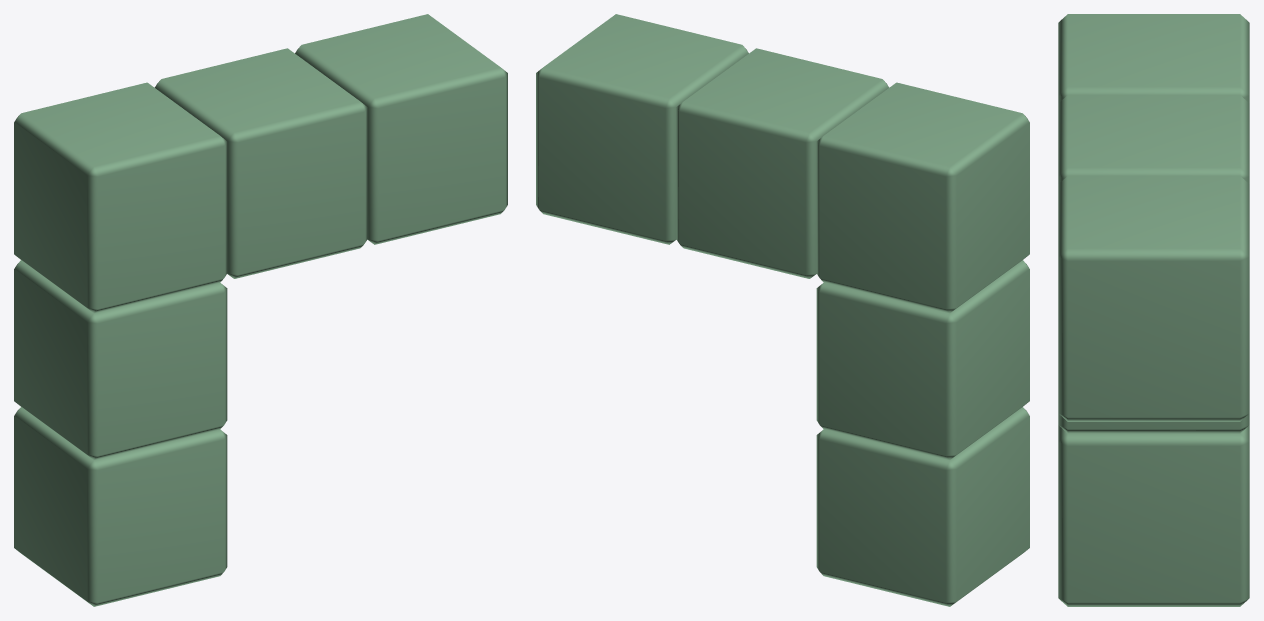
File: FinEarth4.fbx
3 views of the same model, side by side, from view 1: azimuth 30°, elevation 25°; view 2: azimuth 150°, elevation 25°; view 3: azimuth 270°, elevation 25° (orthographic). The views are drawn at different scales.
Parts seen in each view (by area): view 1: geo1; view 2: geo1; view 3: geo1.
Boxes of the visible parts, x1,y1,x2,y2 form: geo1: (14,14,507,606); geo1: (536,14,1029,606); geo1: (1058,14,1249,606).
Bounding box in the file's own units: 3 × 3 × 1.
